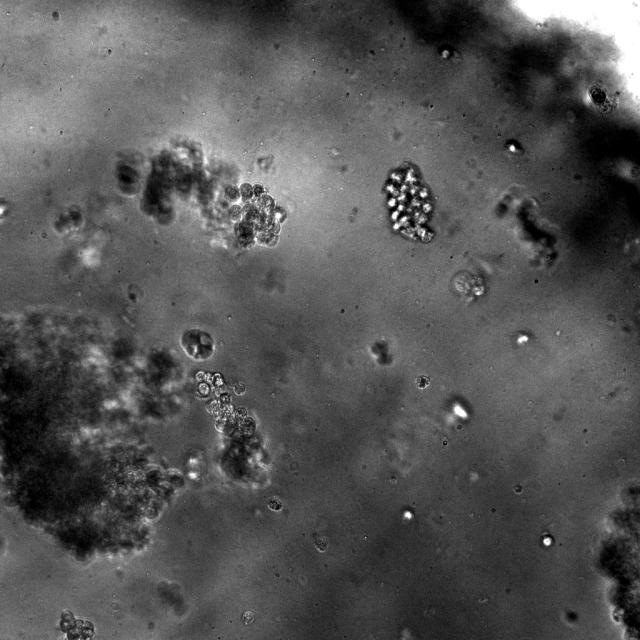organoid: (0, 306, 190, 560), (117, 138, 286, 249), (196, 370, 268, 483), (596, 484, 639, 639), (494, 189, 558, 268), (383, 162, 433, 242), (451, 269, 486, 302), (181, 328, 215, 361), (60, 610, 94, 639), (54, 205, 83, 234), (589, 83, 617, 113), (371, 341, 392, 364)
